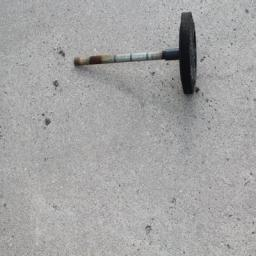FOD: (73, 12, 217, 99)
